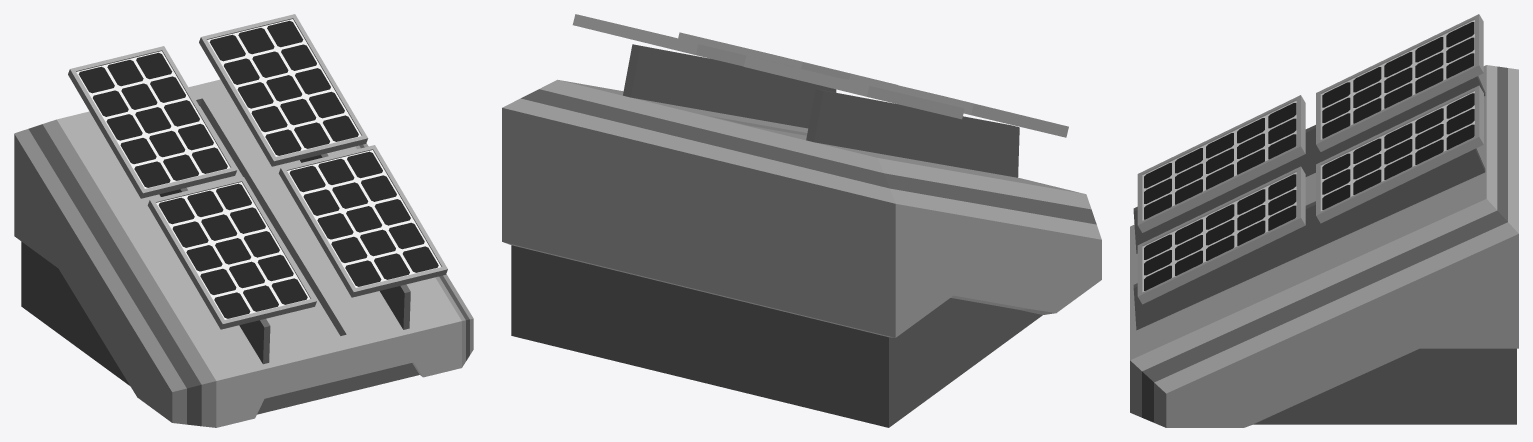
The model's file is solarpanel_structure.glb.
3 views of the same model, side by side, from view 1: azimuth 30°, elevation 25°; view 2: azimuth 150°, elevation 25°; view 3: azimuth 270°, elevation 25° (orthographic). The views are drawn at different scales.
Visible parts, largest first — view 1: SolarPanel_Structure; view 2: SolarPanel_Structure; view 3: SolarPanel_Structure.
Boxes of the visible parts, <box> form: SolarPanel_Structure: <box>14,14,473,427</box>; SolarPanel_Structure: <box>502,14,1101,427</box>; SolarPanel_Structure: <box>1130,14,1518,427</box>.
Bounding box in the file's own units: 4 × 3.07 × 4.
Materials: 1 (1 with a texture image).
